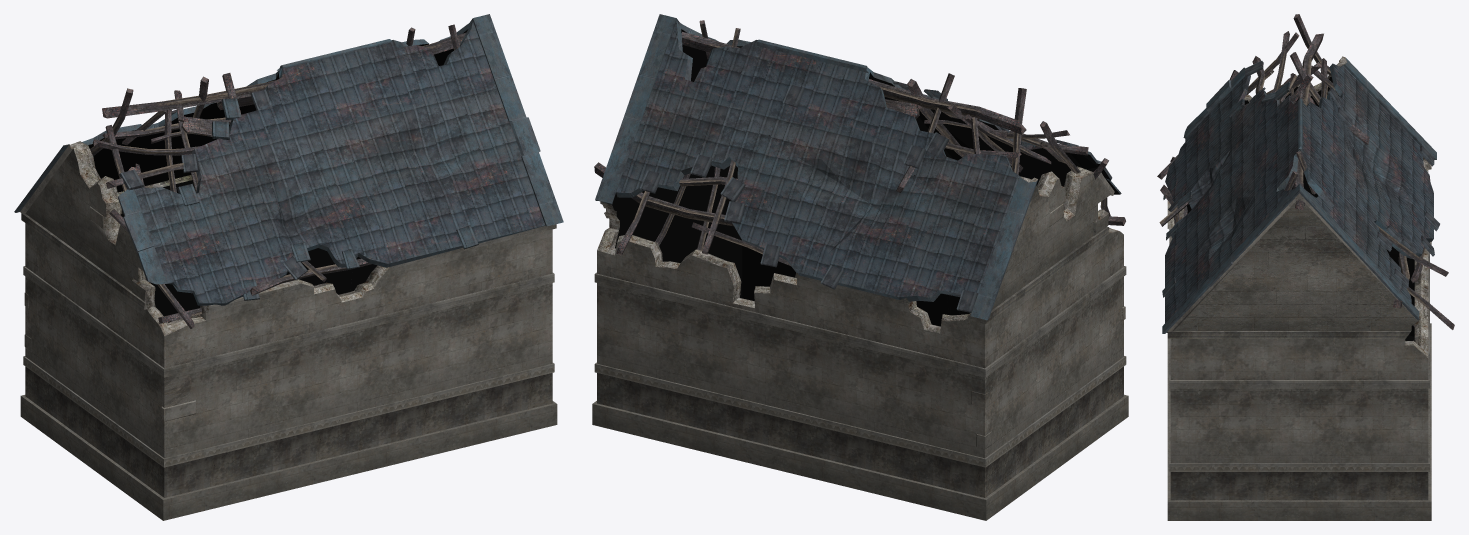
The model's file is bg_lut_lucastle_house07_sm_ysi.FBX.
3 views of the same model, side by side, from view 1: azimuth 30°, elevation 25°; view 2: azimuth 150°, elevation 25°; view 3: azimuth 270°, elevation 25° (orthographic). The views are drawn at different scales.
Visible parts, largest first — view 1: bg_lut_lucastle_house07_sm_ysi; view 2: bg_lut_lucastle_house07_sm_ysi; view 3: bg_lut_lucastle_house07_sm_ysi.
Boxes of the visible parts, x1,y1,x2,y2 form: bg_lut_lucastle_house07_sm_ysi: (14, 14, 563, 520); bg_lut_lucastle_house07_sm_ysi: (592, 14, 1128, 520); bg_lut_lucastle_house07_sm_ysi: (1157, 14, 1454, 520).
Bounding box in the file's own units: 850 × 711 × 557.
